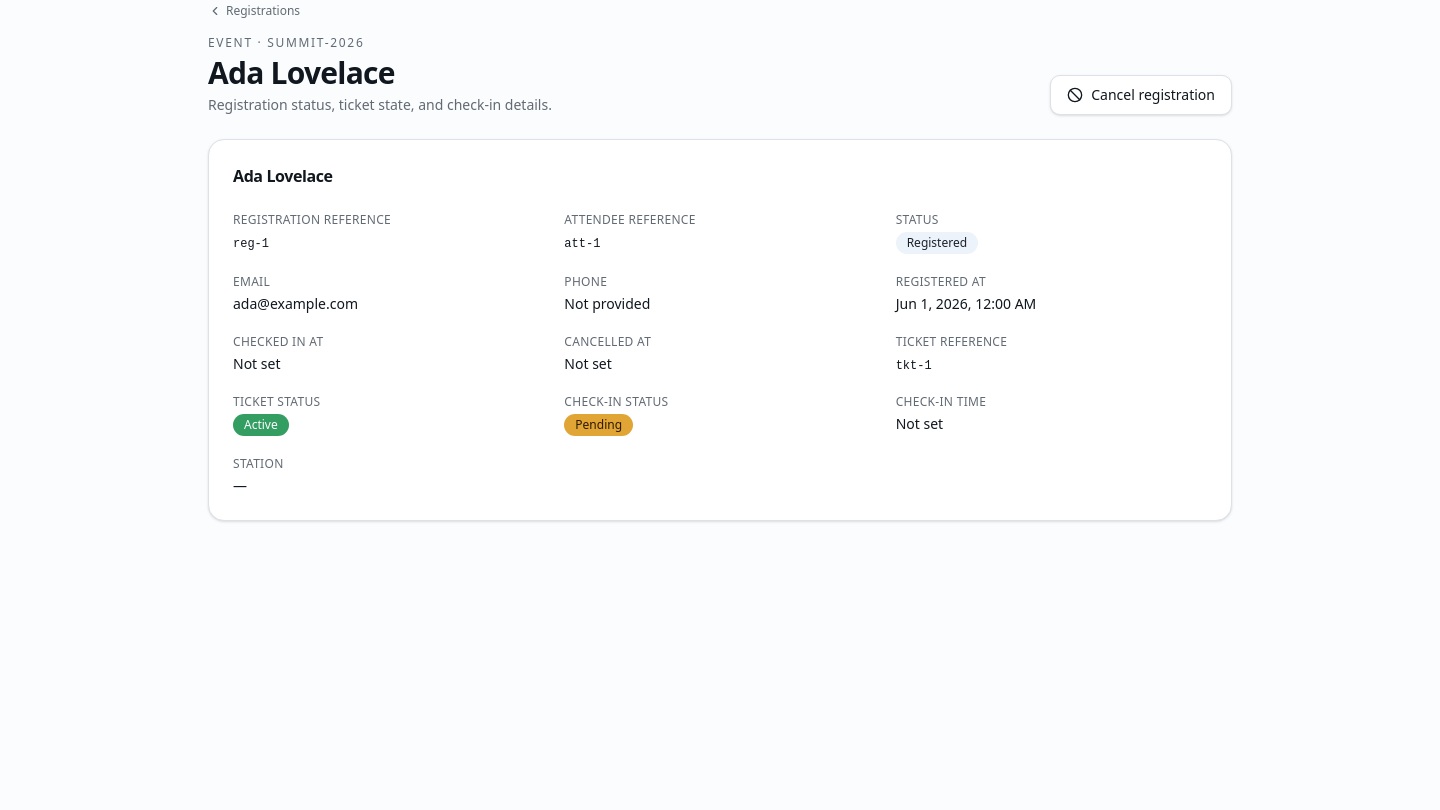
Test: registration management › shows 409 conflict and 429 error states
Step 1. Click the button "Cancel registration" → (1141, 95), box [1050,75,1232,115]
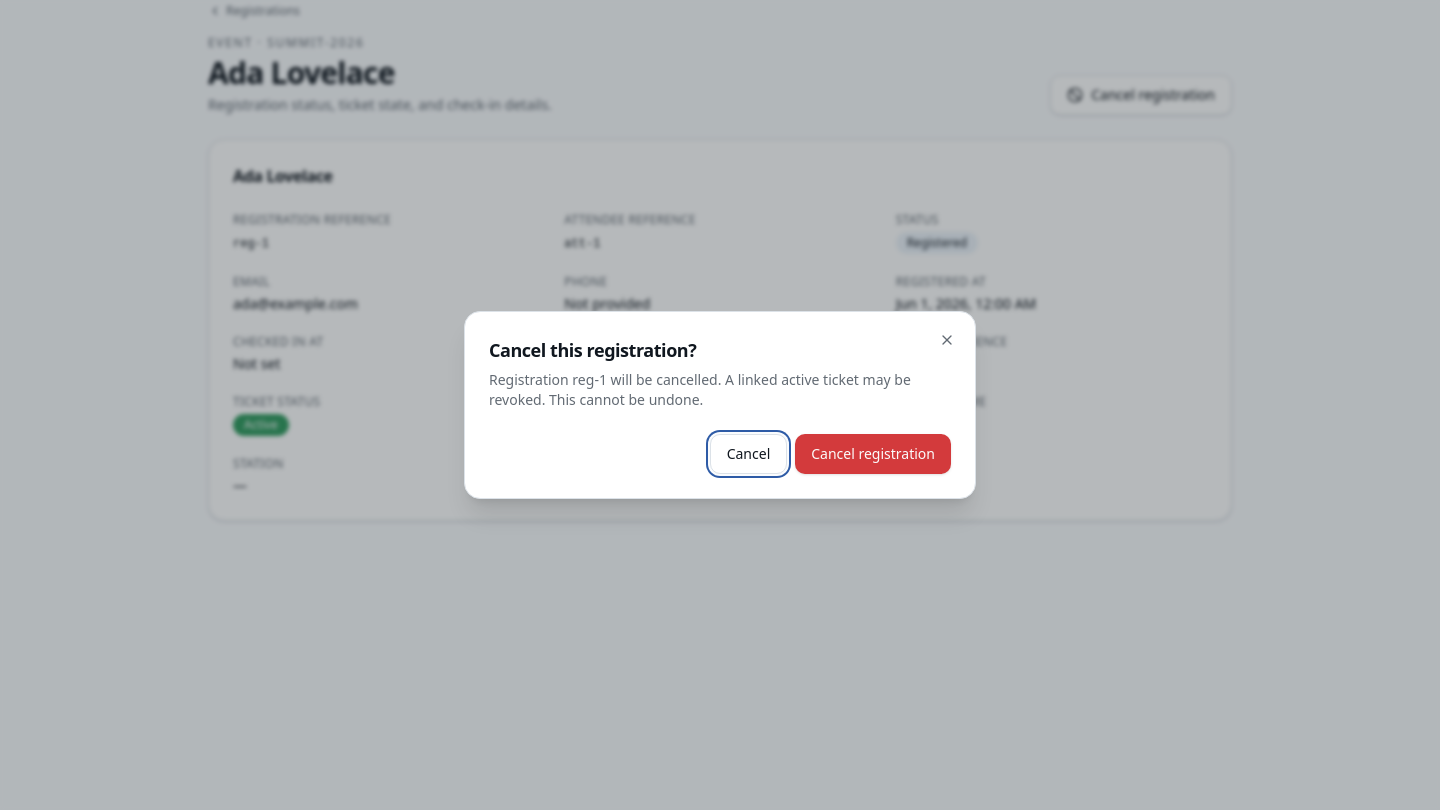
Step 2. Click the button "Cancel registration" → (873, 454), box [795,434,951,474]
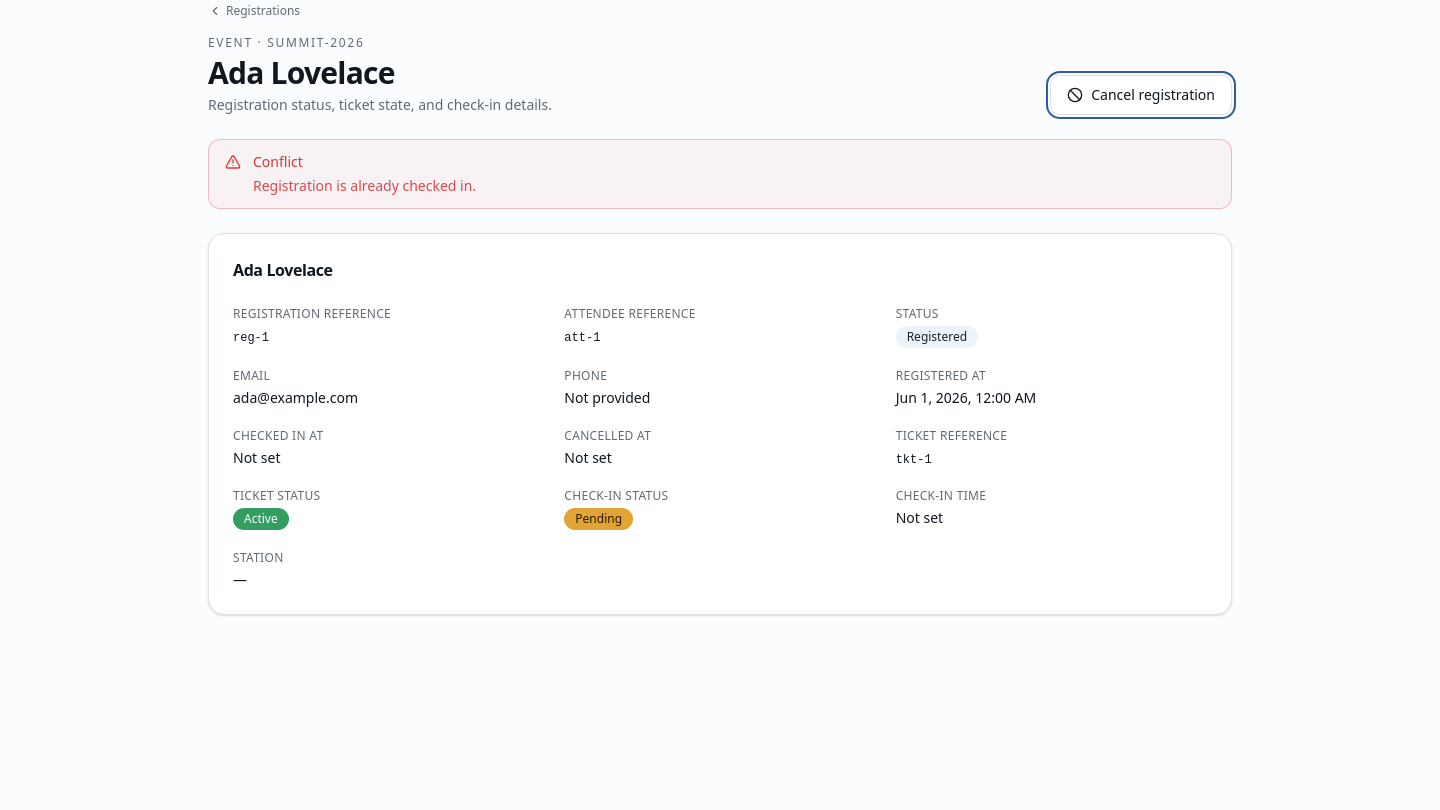
Expected: the text "Registration is already checked in." is shown, [253,176,476,195]
